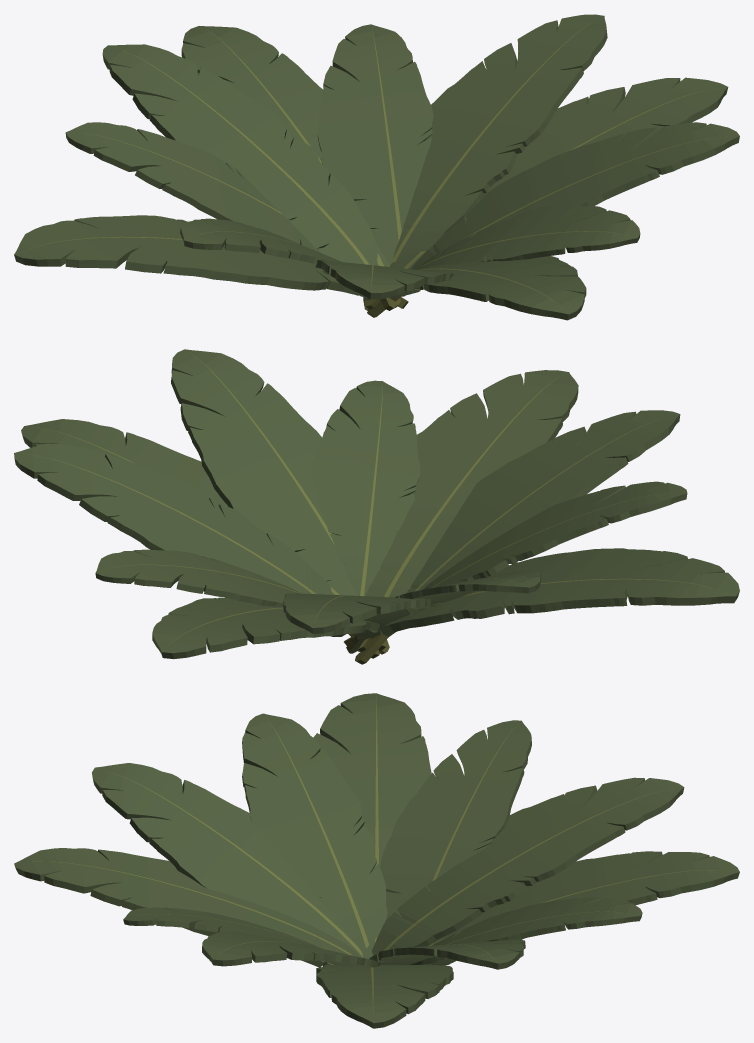
The model's file is leaf4.fbx.
3 renders of one model, top to bottom at view 1: azimuth 30°, elevation 25°; view 2: azimuth 150°, elevation 25°; view 3: azimuth 270°, elevation 25°, orthographic. The views are drawn at different scales.
Parts seen in each view (by area): view 1: Plane.004, Plane.006, Plane.008, Plane.012, Plane.001, Plane.011, Plane.009, Plane.002, Plane.007, Plane.003, Plane.005, Plane.010; view 2: Plane.012, Plane.003, Plane.004, Plane.007, Plane.010, Plane.001, Plane.005, Plane.002, Plane.008, Plane.009, Plane.006, Plane.011; view 3: Plane.005, Plane.006, Plane.010, Plane.011, Plane.003, Plane.001, Plane.002, Plane.009, Plane.008, Plane.012, Plane.004, Plane.007.
Part boxes in pixels (bbox=[...]): Plane.004: bbox=[364, 14, 607, 310]; Plane.006: bbox=[102, 44, 396, 310]; Plane.008: bbox=[317, 24, 433, 296]; Plane.012: bbox=[367, 122, 739, 317]; Plane.001: bbox=[14, 215, 408, 308]; Plane.011: bbox=[65, 122, 322, 252]; Plane.009: bbox=[364, 77, 728, 309]; Plane.002: bbox=[181, 26, 400, 308]; Plane.007: bbox=[415, 204, 640, 269]; Plane.003: bbox=[417, 256, 586, 320]; Plane.005: bbox=[180, 218, 374, 299]; Plane.010: bbox=[315, 260, 453, 303]; Plane.012: bbox=[171, 349, 389, 654]; Plane.003: bbox=[357, 370, 578, 651]; Plane.004: bbox=[14, 443, 379, 658]; Plane.007: bbox=[311, 380, 420, 596]; Plane.010: bbox=[355, 410, 680, 664]; Plane.001: bbox=[344, 548, 739, 645]; Plane.005: bbox=[372, 481, 687, 638]; Plane.002: bbox=[152, 597, 380, 659]; Plane.008: bbox=[95, 549, 301, 607]; Plane.009: bbox=[21, 419, 387, 650]; Plane.006: bbox=[283, 593, 432, 633]; Plane.011: bbox=[346, 570, 541, 653]; Plane.005: bbox=[242, 713, 387, 952]; Plane.006: bbox=[372, 777, 684, 955]; Plane.010: bbox=[92, 763, 362, 957]; Plane.011: bbox=[380, 720, 531, 918]; Plane.003: bbox=[14, 848, 360, 967]; Plane.001: bbox=[313, 693, 431, 958]; Plane.002: bbox=[428, 851, 739, 964]; Plane.009: bbox=[316, 964, 453, 1028]; Plane.008: bbox=[407, 897, 642, 964]; Plane.012: bbox=[202, 931, 380, 967]; Plane.004: bbox=[369, 939, 525, 969]; Plane.007: bbox=[123, 907, 345, 964].
Size of the model in its own units: 468 by 116 by 442.
